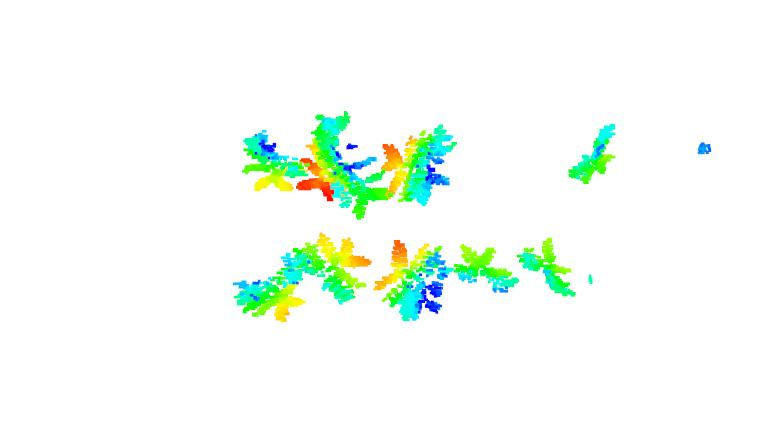chickpea: (224, 224, 366, 325), (298, 109, 389, 219), (369, 238, 450, 325), (379, 122, 458, 205), (239, 128, 308, 193), (449, 240, 517, 299), (517, 236, 577, 300), (565, 119, 622, 186)
